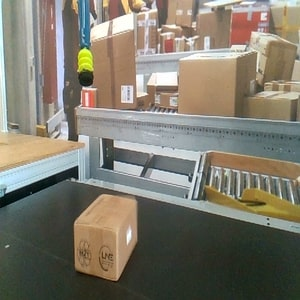box: (73, 193, 139, 282)
